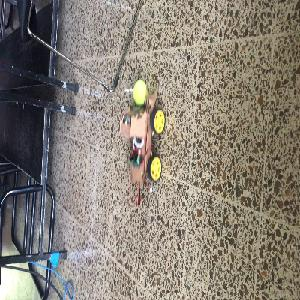Ball: (133, 80, 146, 105)
Robot: (118, 88, 166, 183)
